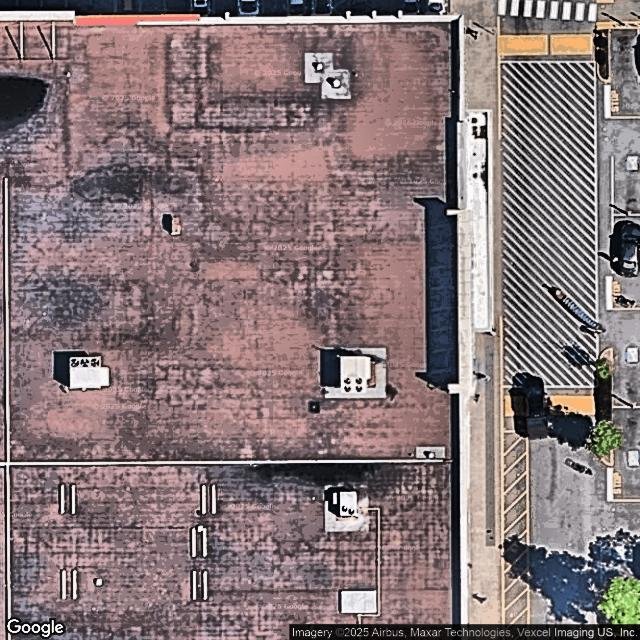car: (619, 222, 637, 275)
lot_boundary: (606, 21, 639, 502)
stall: (610, 215, 640, 276), (612, 407, 640, 468), (612, 349, 640, 408), (610, 160, 639, 216), (609, 30, 636, 78)
